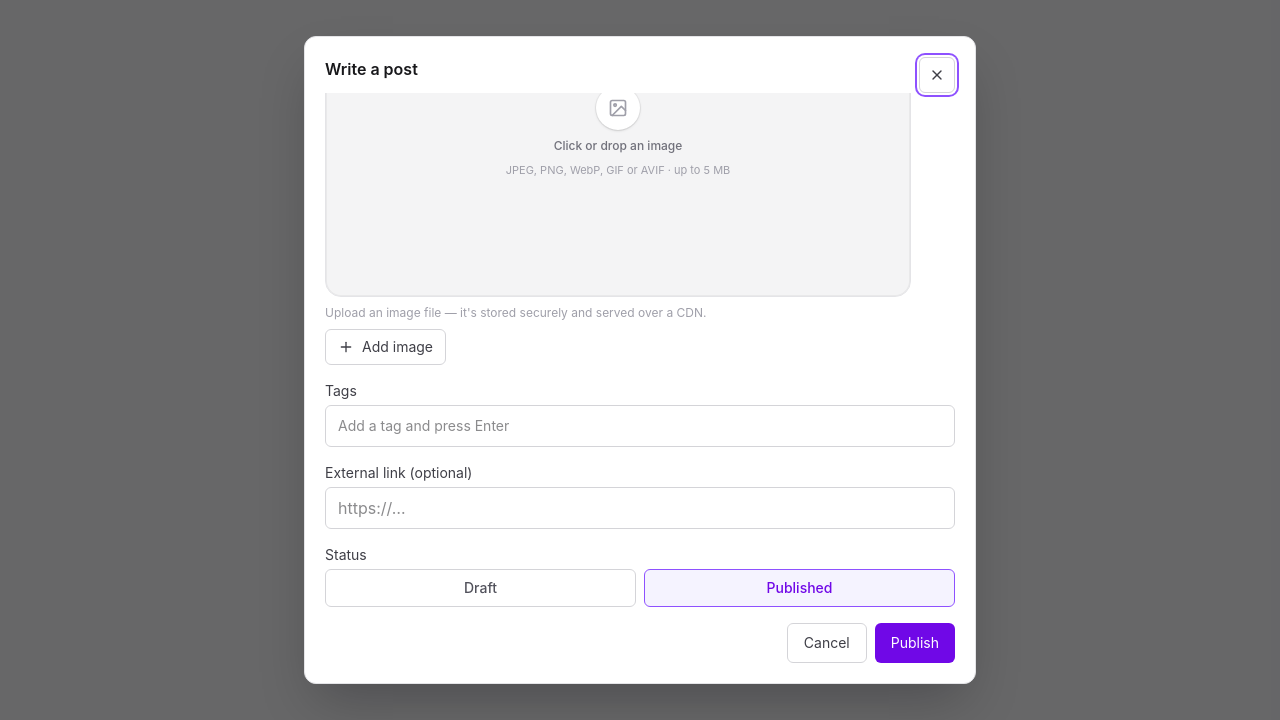
Test: PostComposerDialog › blocks submit when the body is empty (zod gate) and surfaces an error
(page scrolled)
Click the button "Publish": (915, 643) [875,623,955,663]
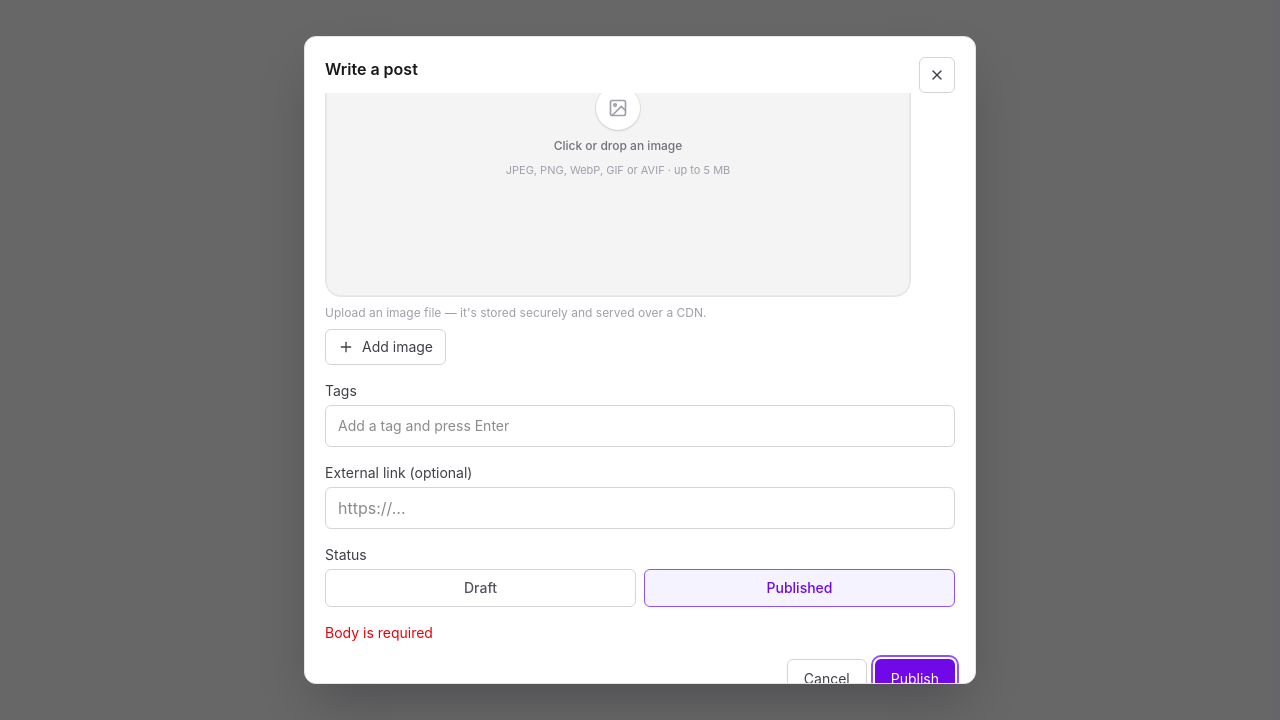
Check: the text "Body is required" is shown, box [325,624,433,641]
